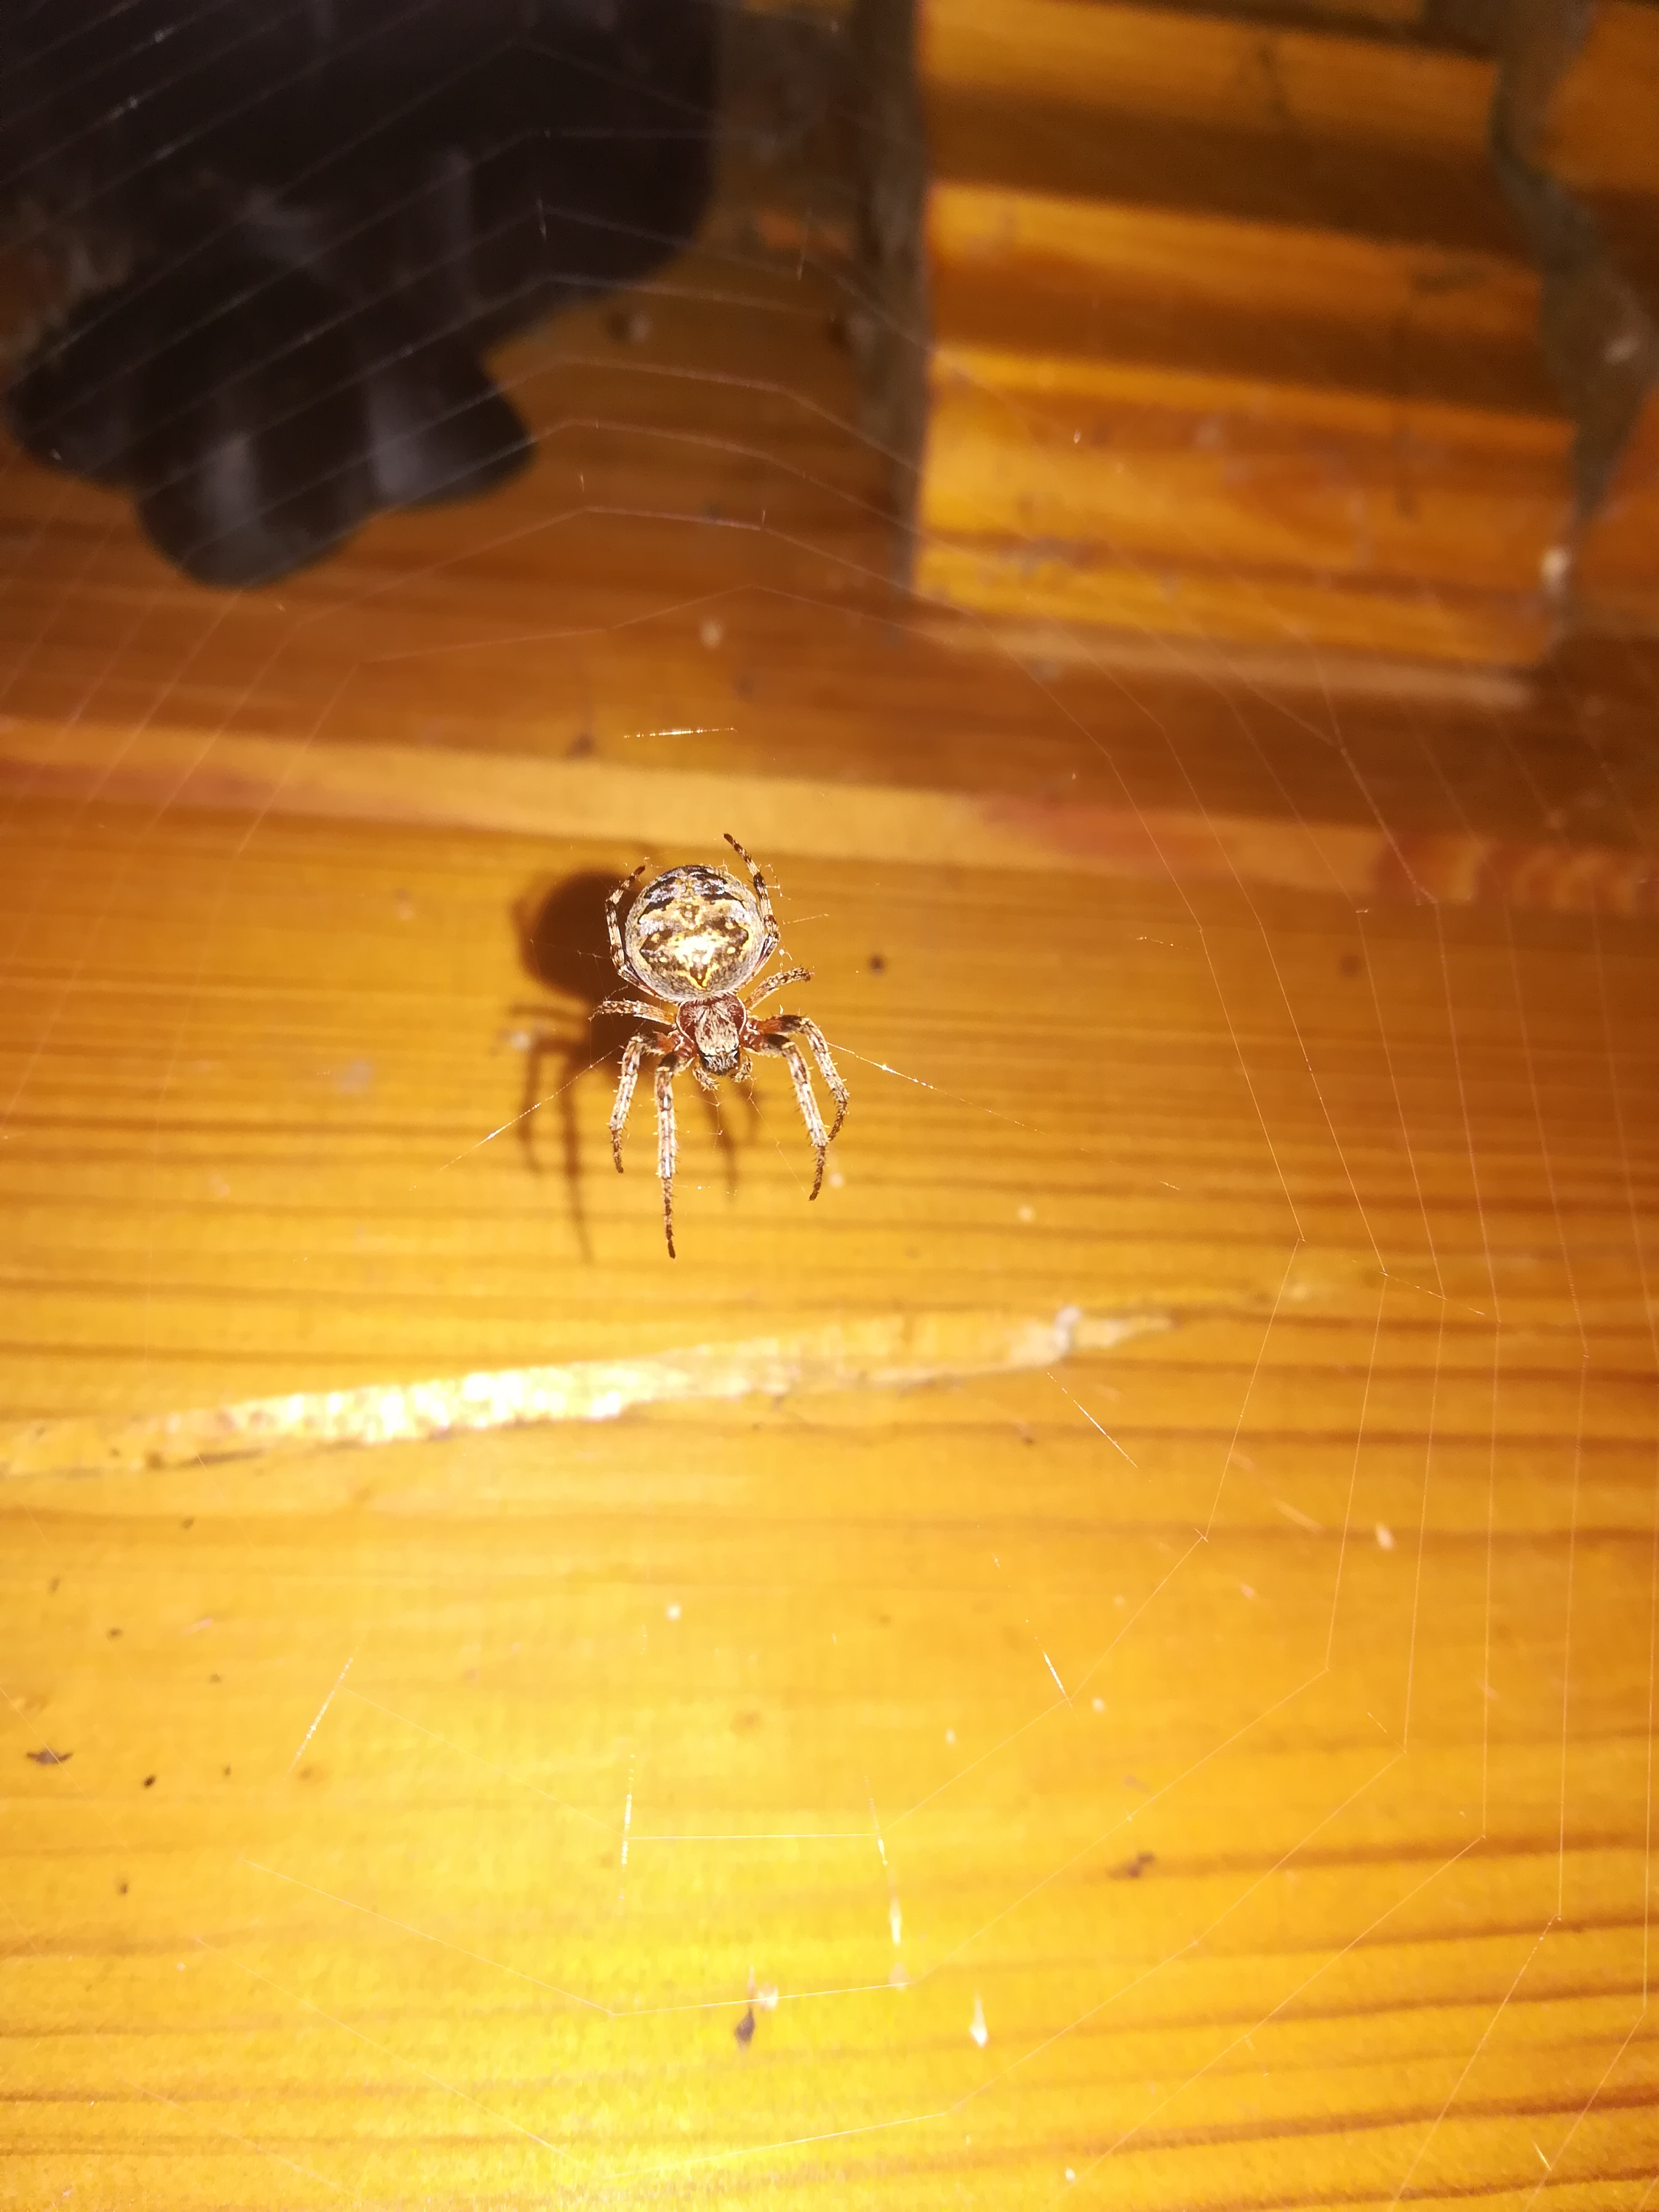spider: (523, 817, 906, 1273)
